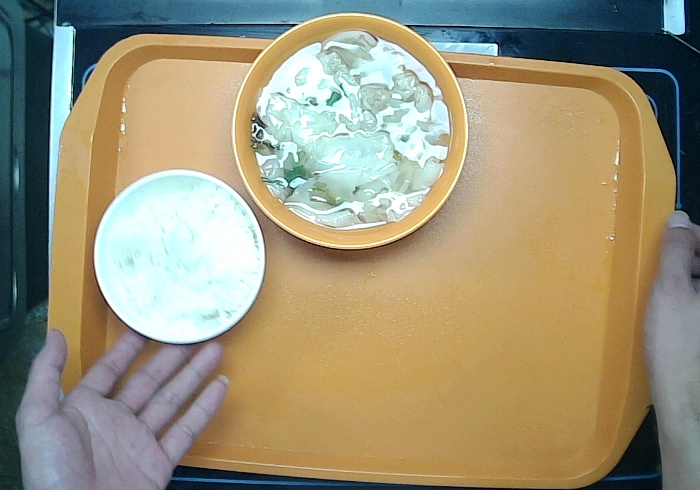NLDX-Fan_Wan: (91, 169, 264, 345)
NLDX-Hun_Tun_Wan: (230, 12, 470, 251)
